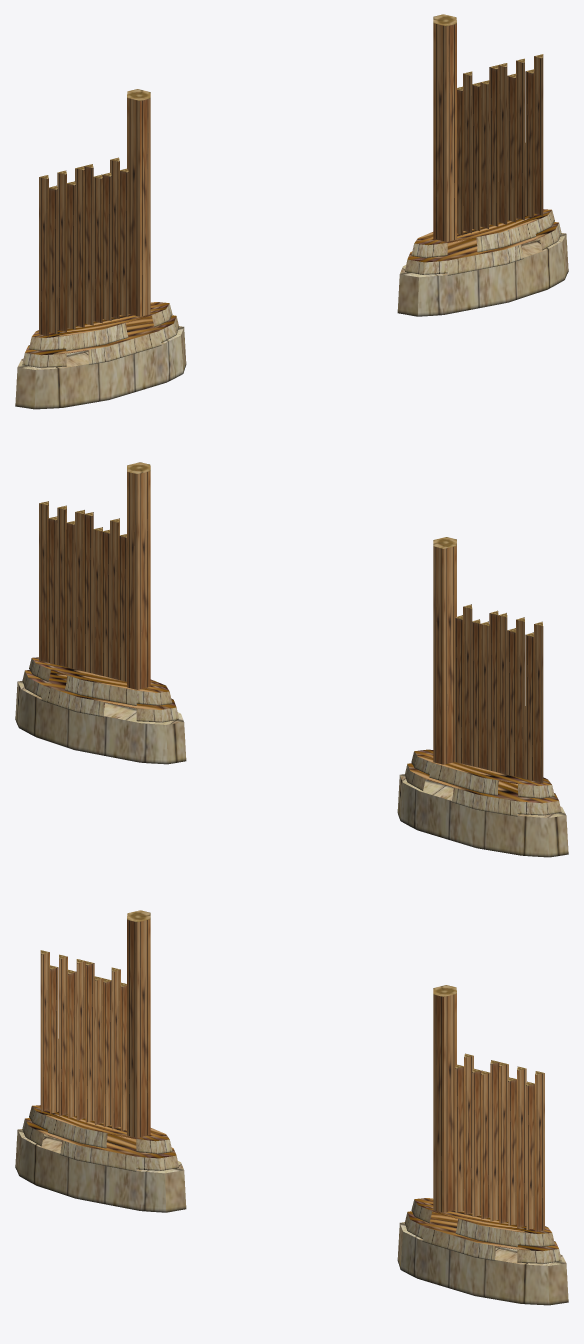
Rendered from wall_gate.dae.
The picture shows the model from 3 angles, top to bottom: view 1: azimuth 30°, elevation 25°; view 2: azimuth 150°, elevation 25°; view 3: azimuth 330°, elevation 25°; orthographic projection.
Parts seen in each view (by area): view 1: wall_gate; view 2: wall_gate; view 3: wall_gate.
Boxes of the visible parts, x1,y1,x2,y2 form: wall_gate: (15, 14, 568, 409); wall_gate: (15, 462, 568, 857); wall_gate: (15, 910, 568, 1305).
Bounding box in the file's own units: 44.59 × 4.85 × 23.39.
